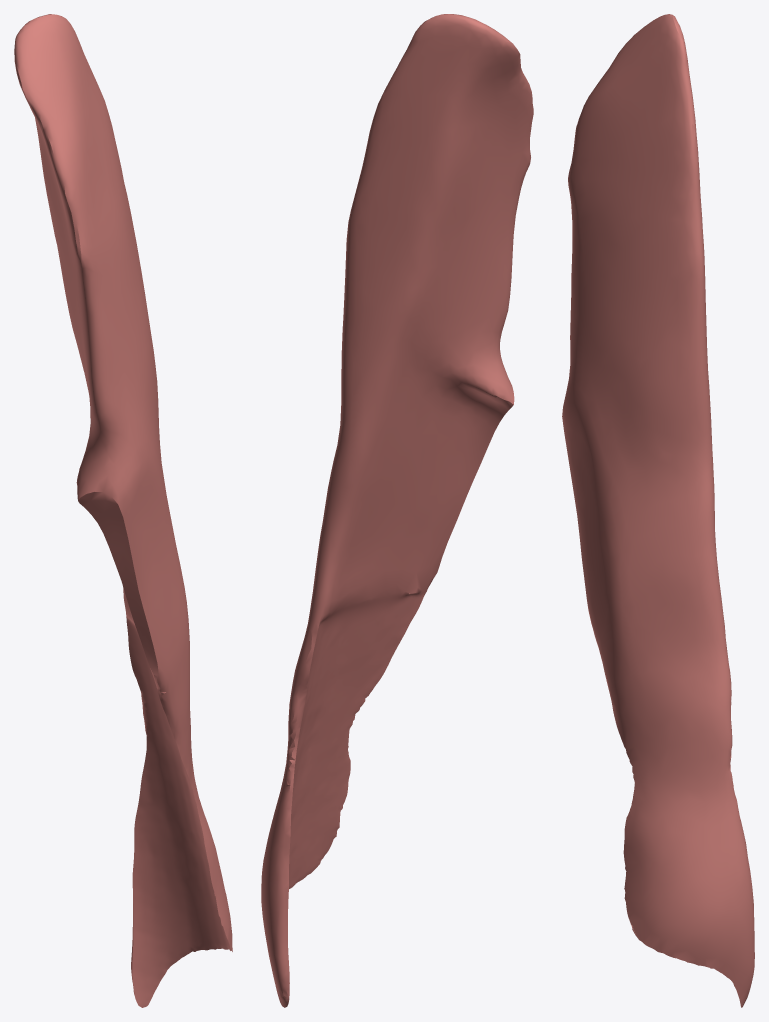
The model's file is fma40842-f_mm2249m.glb.
3 views of the same model, side by side, from view 1: azimuth 30°, elevation 25°; view 2: azimuth 150°, elevation 25°; view 3: azimuth 270°, elevation 25° (orthographic). The views are drawn at different scales.
Visible parts, largest first — view 1: FMA40842-F_MM2249M; view 2: FMA40842-F_MM2249M; view 3: FMA40842-F_MM2249M.
Part boxes in pixels (x1=…): FMA40842-F_MM2249M: x1=14, y1=14, x2=232, y2=1007; FMA40842-F_MM2249M: x1=261, y1=14, x2=533, y2=1007; FMA40842-F_MM2249M: x1=562, y1=14, x2=754, y2=1007.
Size of the model in its own units: 0.0157 by 0.0696 by 0.0131.
